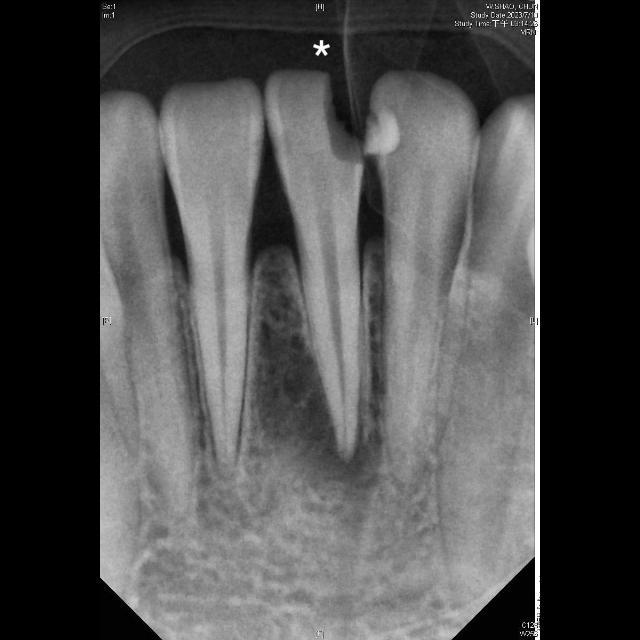test-segment: (266, 71, 362, 459)
